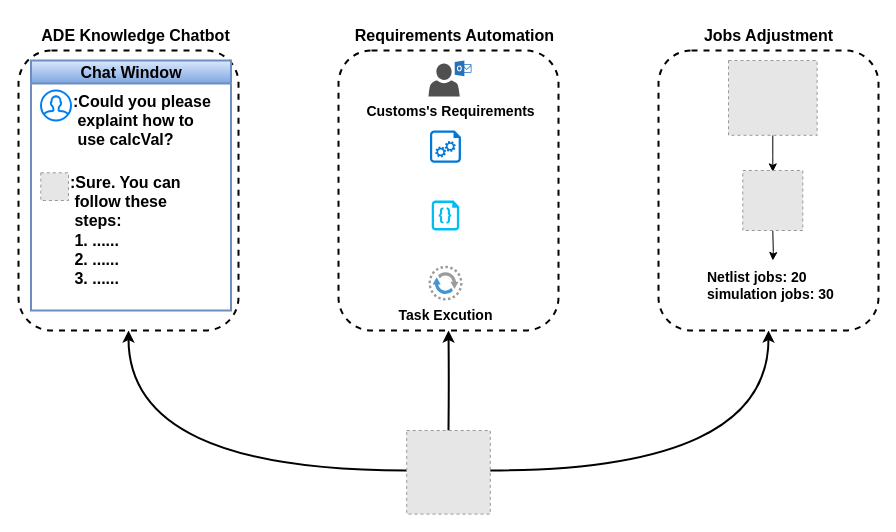
Image size: 896x532. Some labels were removed from this diagram. Grey dashed boxes stand in for pictures. Each missing label, with the centre of its shape:
"Script Generation" goes at (445,215).
"Taks Analysis" goes at (445,146).
